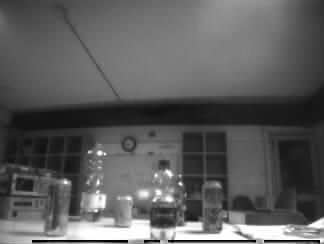Bottle: (152, 161, 179, 242), (82, 143, 106, 221)
Tin can: (46, 179, 68, 234), (202, 181, 222, 231), (115, 193, 133, 227)
